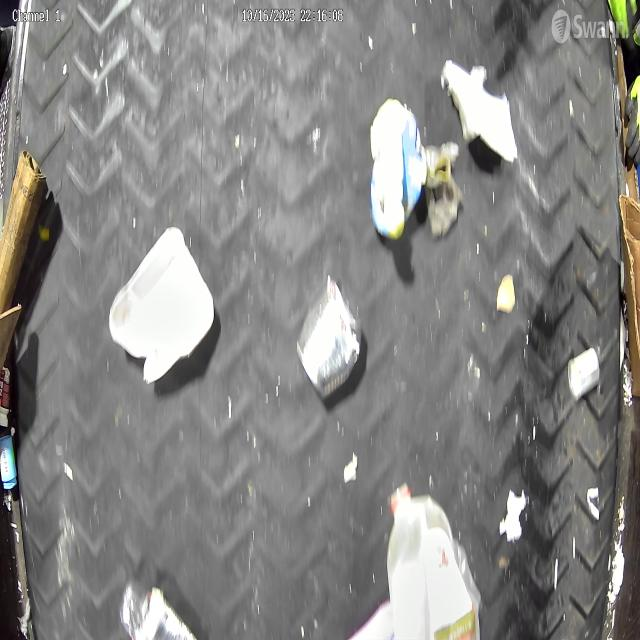can: (296, 272, 362, 401)
milk_jug: (388, 483, 484, 640)
plastic_bottle: (117, 580, 210, 638)
